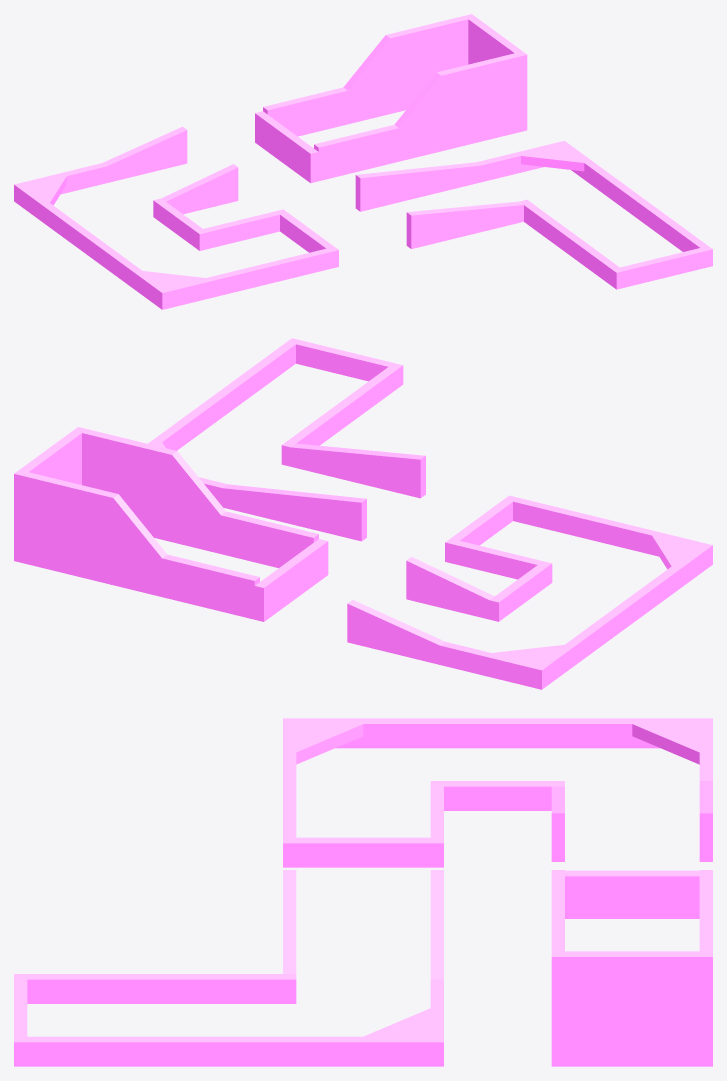
File: Hole 7 Trim.glb
3 renders of one model, top to bottom at view 1: azimuth 30°, elevation 25°; view 2: azimuth 150°, elevation 25°; view 3: azimuth 270°, elevation 25°, orthographic. The views are drawn at different scales.
Visible parts, largest first — view 1: Hole 7 Trim; view 2: Hole 7 Trim; view 3: Hole 7 Trim.
Part boxes in pixels (left/top/right/bottom): Hole 7 Trim: left=14, top=14, right=712, bottom=309; Hole 7 Trim: left=14, top=338, right=712, bottom=689; Hole 7 Trim: left=14, top=718, right=712, bottom=1066.
Size of what is drawn, in the model's own units: 11.4 by 1.8 by 10.4.
